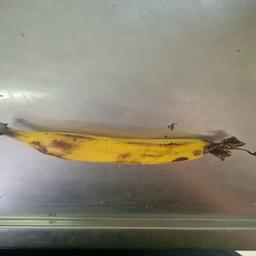Banana Semifresh: (7, 104, 249, 178)
